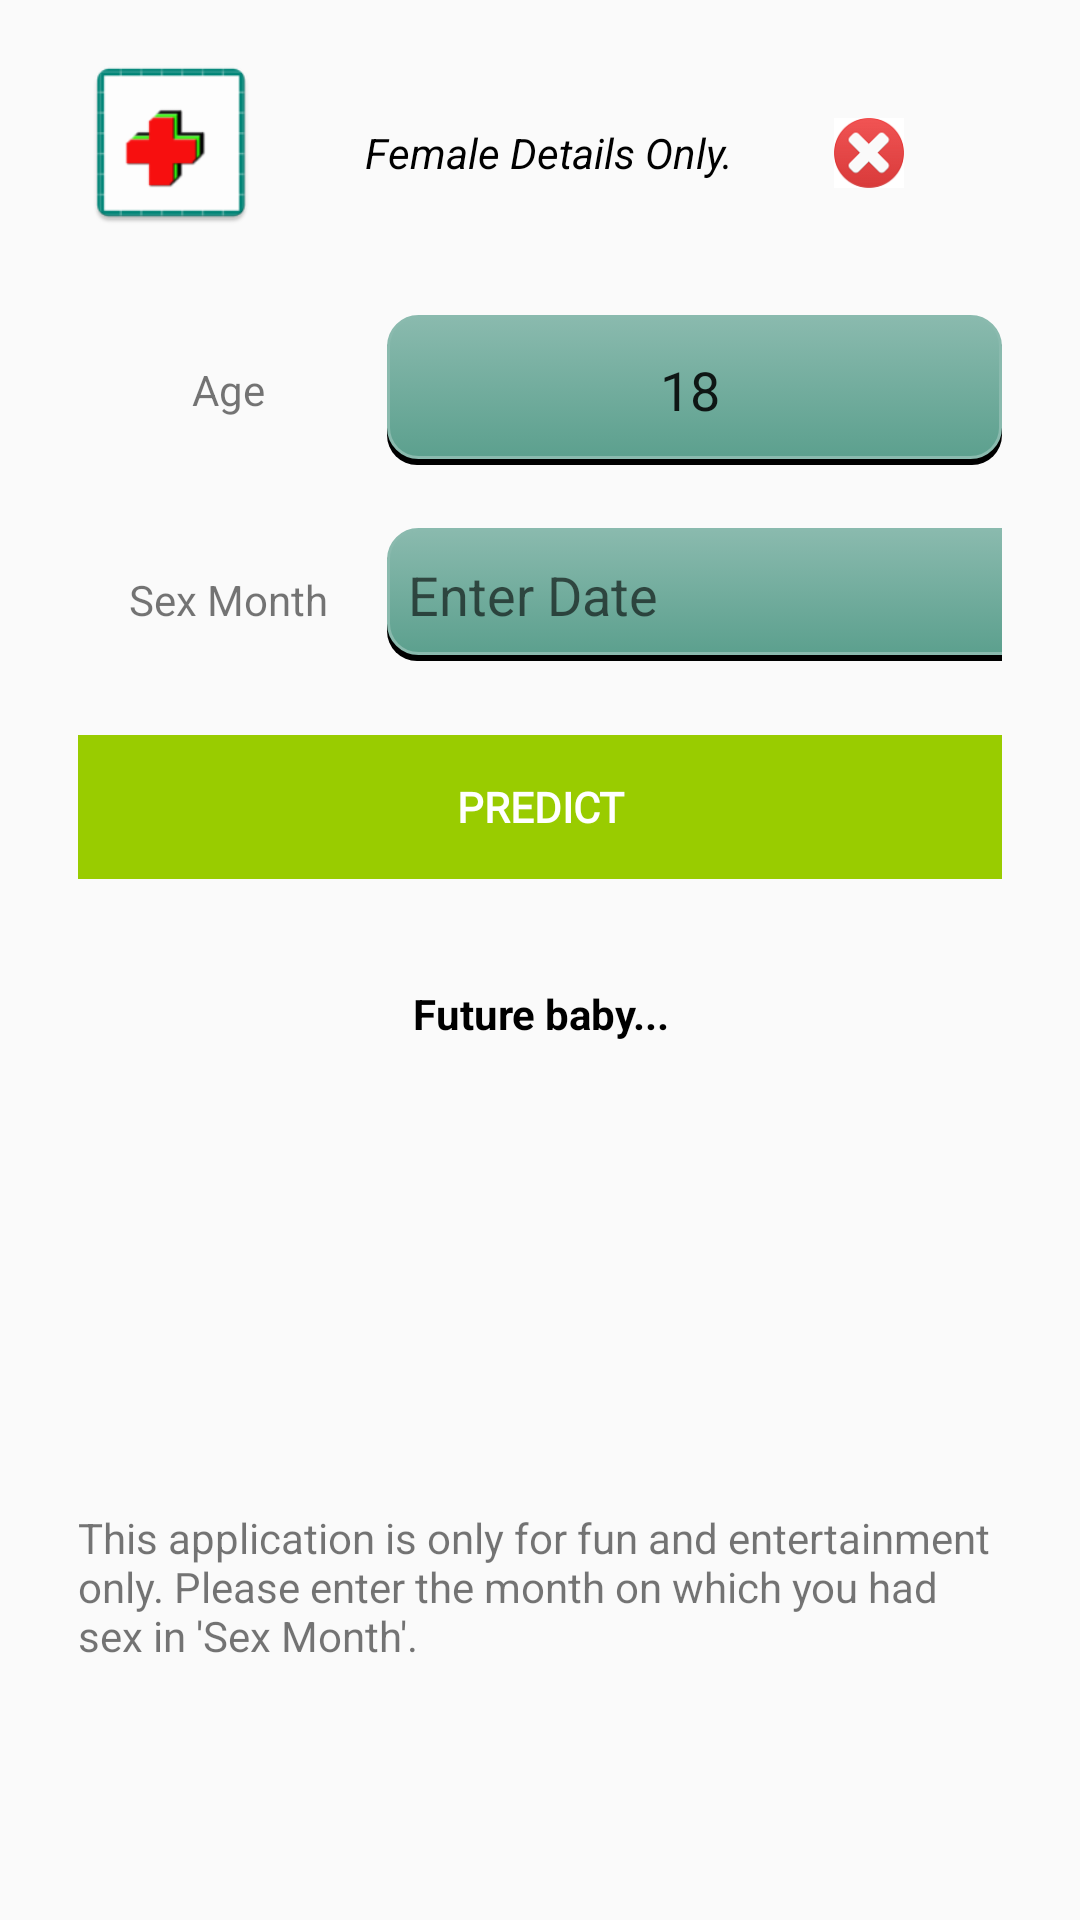

Where to tap for icons on this 1080 × 1920 app screen, as point (x, y):
close: point (869, 153)
